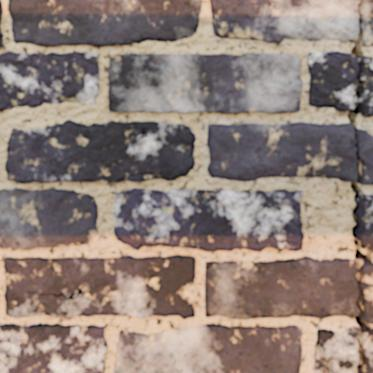brick: (4, 255, 194, 318), (114, 189, 303, 251), (6, 120, 194, 182), (108, 53, 301, 113), (114, 324, 301, 372), (8, 0, 201, 45), (0, 189, 97, 249), (0, 52, 98, 109), (0, 323, 107, 372), (0, 1, 2, 23), (0, 31, 2, 46)
broken_brick: (204, 255, 357, 320), (206, 121, 355, 182), (208, 0, 358, 43), (307, 50, 356, 112), (313, 325, 359, 372), (358, 128, 372, 184), (359, 193, 372, 252), (361, 55, 372, 117), (363, 264, 372, 324), (363, 0, 372, 46), (365, 327, 372, 372)
crack: (346, 0, 372, 372), (115, 171, 163, 182), (279, 240, 302, 246), (204, 263, 216, 270), (109, 67, 116, 75), (332, 314, 347, 316), (292, 314, 304, 316), (99, 351, 105, 355), (216, 313, 221, 316)
